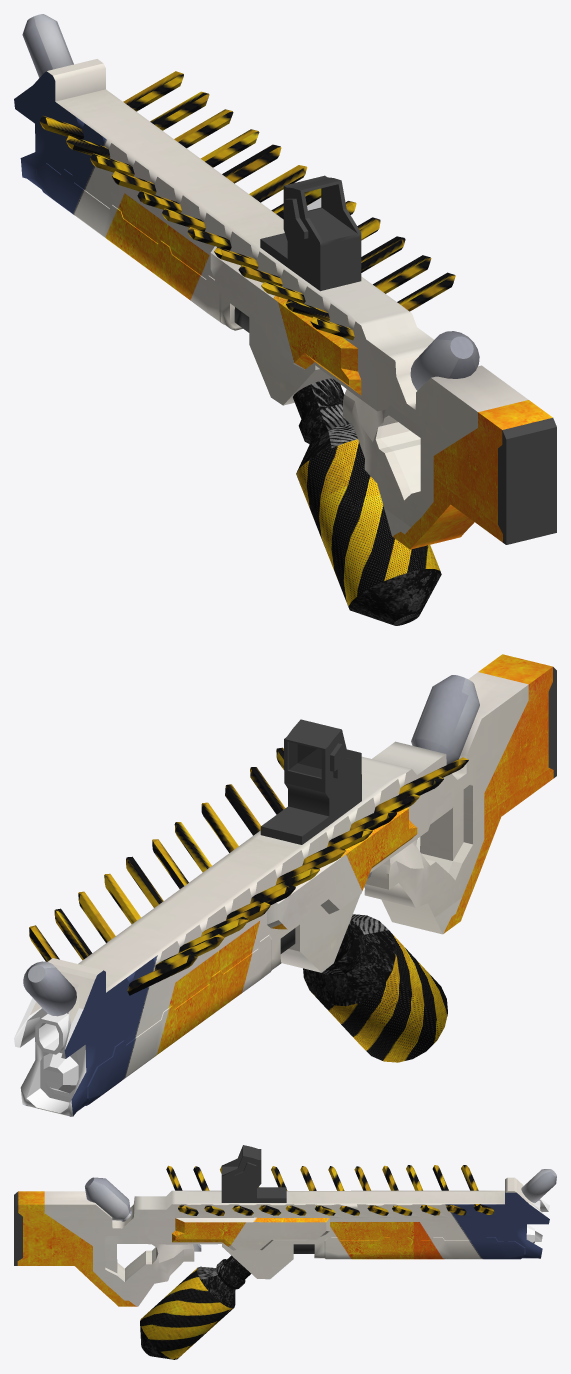
The model's file is ALIEN.fbx.
3 renders of one model, top to bottom at view 1: azimuth 30°, elevation 25°; view 2: azimuth 150°, elevation 25°; view 3: azimuth 270°, elevation 25°, orthographic. The views are drawn at different scales.
Visible parts, largest first — view 1: polySurface2, pCylinder1; view 2: polySurface2, pCylinder1; view 3: polySurface2, pCylinder1.
Boxes of the visible parts, x1,y1,x2,y2 form: polySurface2: (14, 14, 556, 549); pCylinder1: (293, 378, 441, 625); polySurface2: (14, 654, 556, 1116); pCylinder1: (303, 914, 447, 1062); polySurface2: (14, 1145, 556, 1306); pCylinder1: (140, 1255, 250, 1359).
Size of the model in its own units: 4.7 by 10.96 by 26.07.
Materials: 4 (3 with a texture image).
